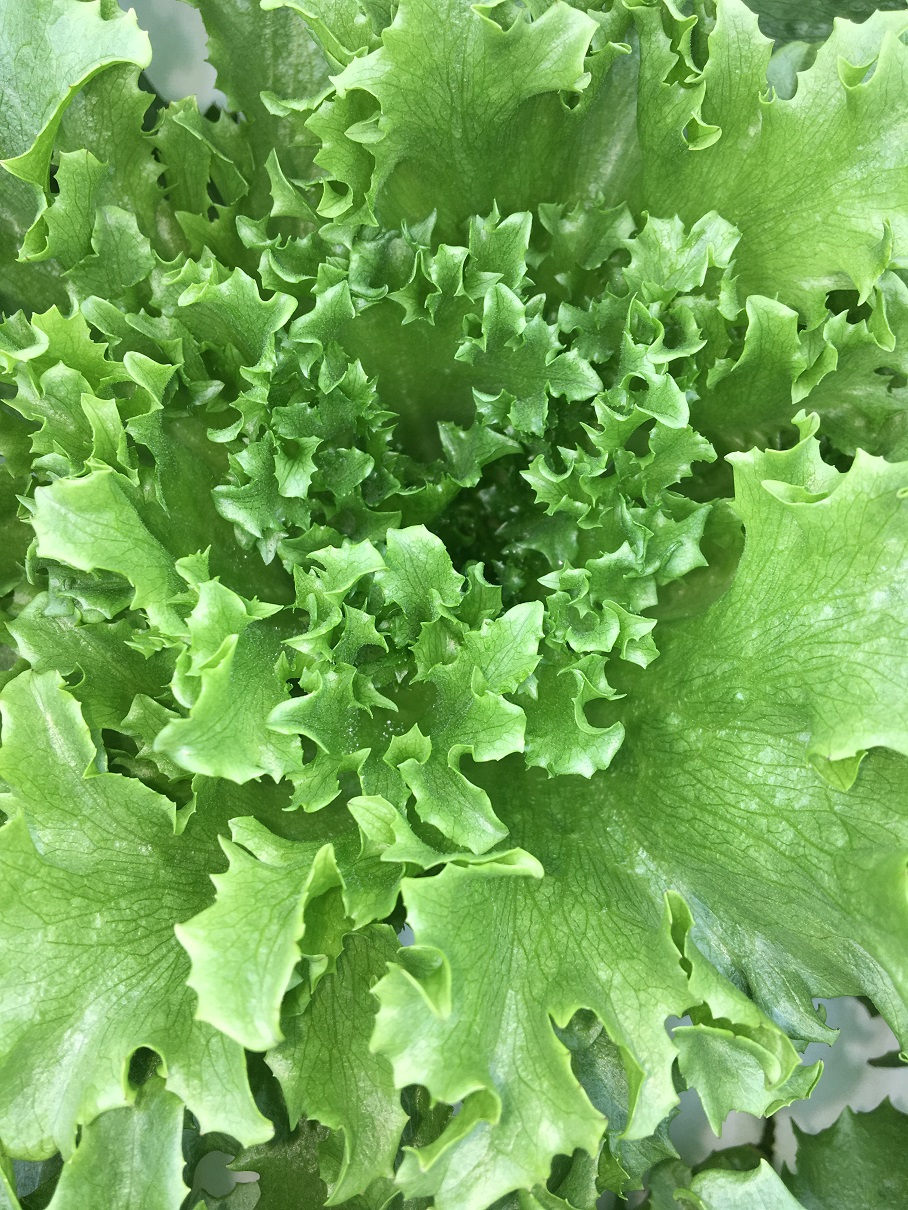tipburn: (10, 241, 36, 269), (820, 1021, 845, 1049), (58, 71, 83, 96), (813, 1050, 834, 1071)
